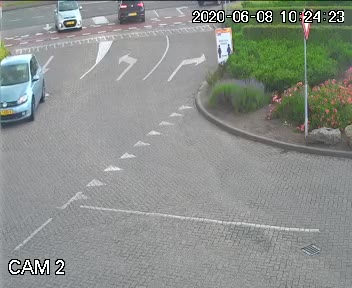car: (0, 52, 50, 127), (113, 1, 151, 28), (55, 0, 88, 31)
